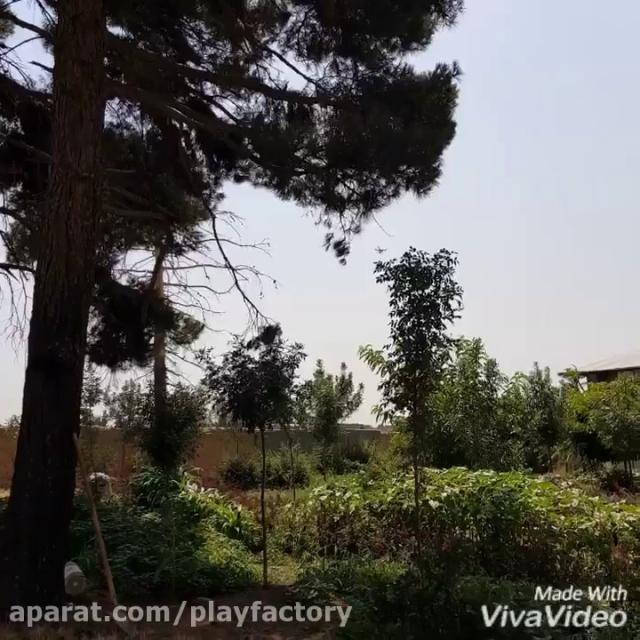drone: (370, 238, 390, 260)
